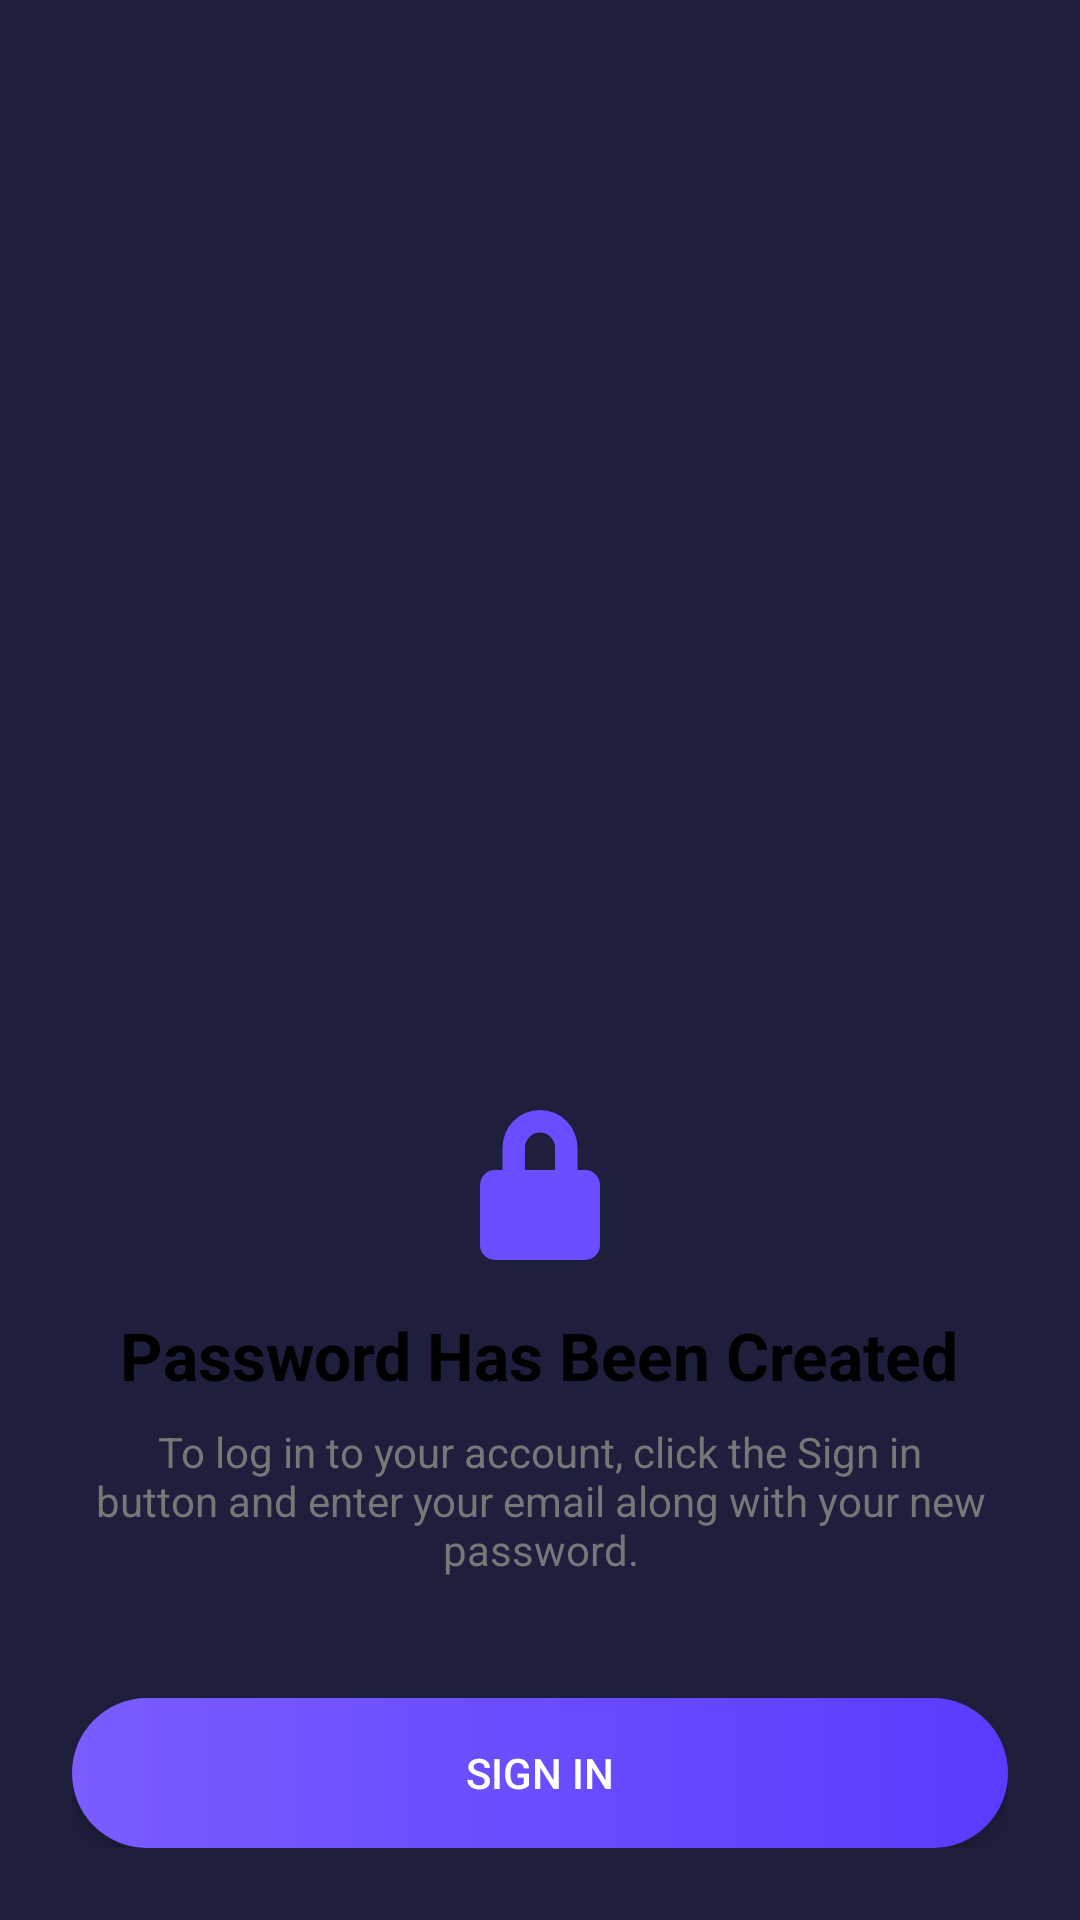

Icon bounding boxes for this 1080 x 1920 phone screenshot, format (x1, y1, x2, y2):
lock: (480, 1110, 600, 1260)
